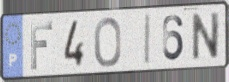4: (63, 19, 87, 70)
6: (161, 14, 186, 64)
F: (29, 21, 55, 71)
I: (143, 13, 153, 67)
N: (190, 10, 222, 63)
O: (93, 16, 122, 69)
